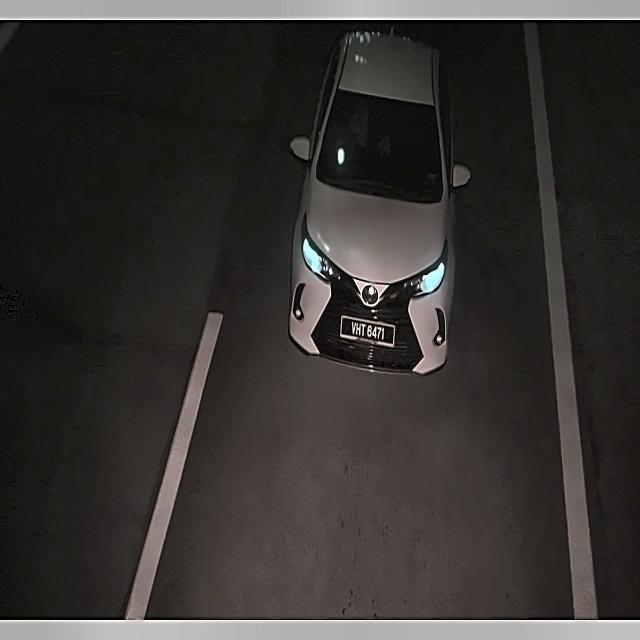car: (337, 316, 396, 349)
